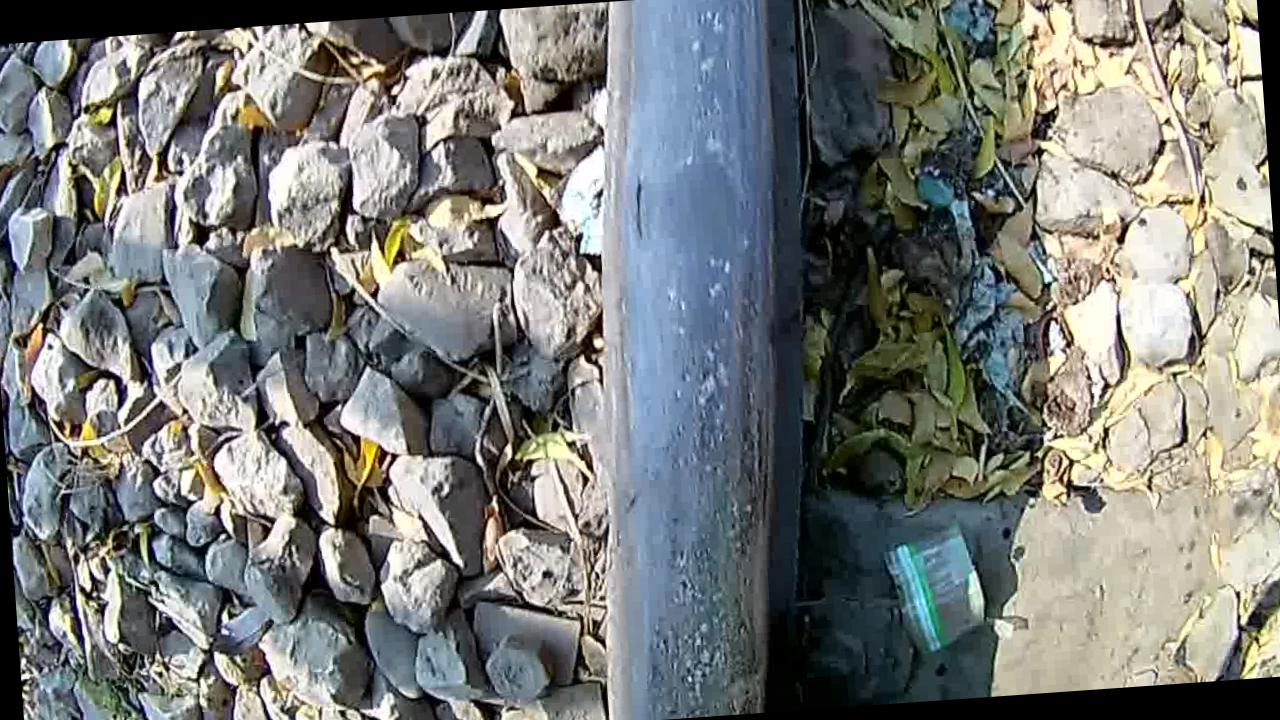bolt_missing: (615, 111, 795, 340)
